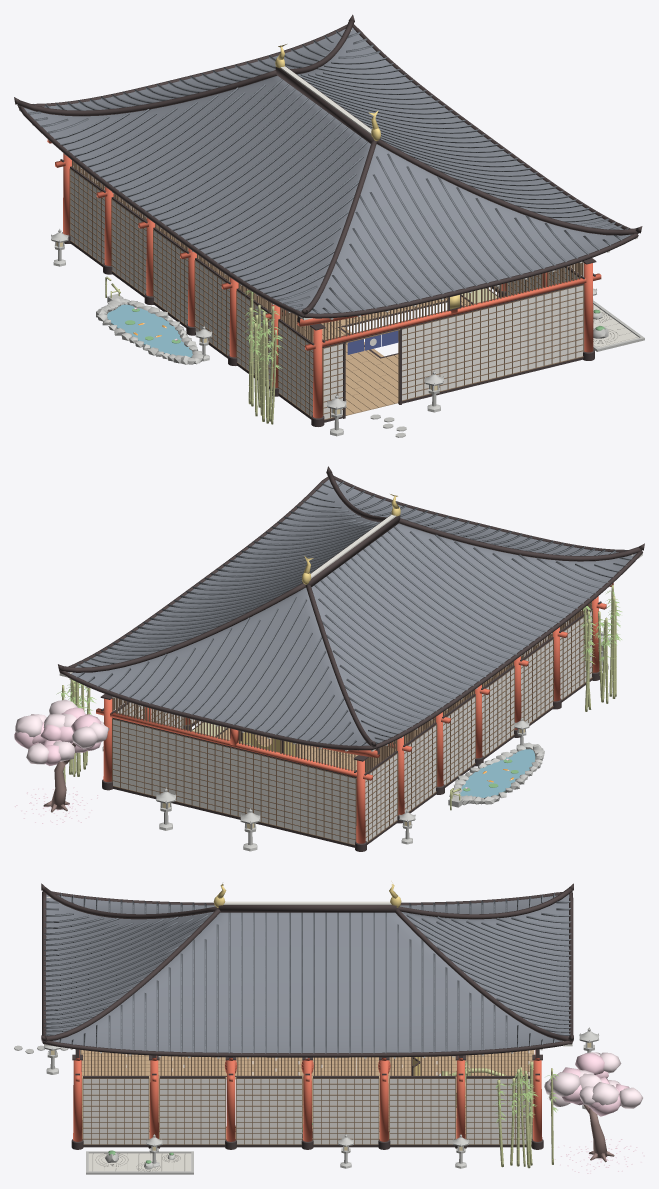
File: SamuraiDojoCage.fbx
The picture shows the model from 3 angles, top to bottom: view 1: azimuth 30°, elevation 25°; view 2: azimuth 150°, elevation 25°; view 3: azimuth 270°, elevation 25°; orthographic projection. The views are drawn at different scales.
Parts seen in each view (by area): view 1: DojoRoof, DojoRoofTiles, DojoPaper, DojoLattice, DojoRoofTrim, DojoTorii, DojoStone, DojoWoodDark, DojoFloor, DojoLacquer, DojoBamboo, DojoWater (+5 smaller); view 2: DojoRoof, DojoRoofTiles, DojoPaper, DojoLattice, DojoRoofTrim, DojoTorii, DojoWoodDark, DojoStone, DojoBamboo, DojoBlossomLight, DojoLacquer, DojoWater (+6 smaller); view 3: DojoRoof, DojoPaper, DojoRoofTiles, DojoRoofTrim, DojoLattice, DojoFloor, DojoTorii, DojoWoodDark, DojoStone, DojoBlossomLight, DojoLacquer, DojoBamboo (+7 smaller).
Part boxes in pixels (<box>): DojoRoof: <box>19,27,632,313</box>; DojoRoofTiles: <box>27,30,628,313</box>; DojoPaper: <box>70,165,583,419</box>; DojoLattice: <box>69,168,584,420</box>; DojoRoofTrim: <box>14,14,642,318</box>; DojoTorii: <box>47,139,601,418</box>; DojoStone: <box>51,229,644,437</box>; DojoWoodDark: <box>72,160,584,343</box>; DojoFloor: <box>157,225,471,415</box>; DojoLacquer: <box>70,164,583,422</box>; DojoBamboo: <box>105,277,276,424</box>; DojoWater: <box>107,304,192,357</box>; DojoRoof: <box>67,479,636,745</box>; DojoRoofTiles: <box>70,481,631,745</box>; DojoPaper: <box>113,608,591,844</box>; DojoLattice: <box>112,610,592,845</box>; DojoRoofTrim: <box>58,466,644,750</box>; DojoTorii: <box>96,583,613,843</box>; DojoWoodDark: <box>112,602,591,772</box>; DojoStone: <box>102,632,610,851</box>; DojoBamboo: <box>62,585,616,810</box>; DojoBlossomLight: <box>15,699,109,764</box>; DojoLacquer: <box>112,606,592,847</box>; DojoWater: <box>460,749,535,797</box>; DojoRoof: <box>44,894,569,1052</box>; DojoPaper: <box>80,1050,531,1144</box>; DojoRoofTiles: <box>44,893,571,1053</box>; DojoRoofTrim: <box>41,883,573,1057</box>; DojoLattice: <box>80,1050,532,1144</box>; DojoFloor: <box>81,1050,534,1138</box>; DojoTorii: <box>73,1050,542,1141</box>; DojoWoodDark: <box>84,1050,528,1075</box>; DojoStone: <box>14,1027,599,1174</box>; DojoBlossomLight: <box>544,1052,642,1108</box>; DojoLacquer: <box>81,1057,531,1147</box>; DojoBamboo: <box>443,1061,553,1168</box>.
Size of the model in its own units: 1090 by 591 by 1647.
